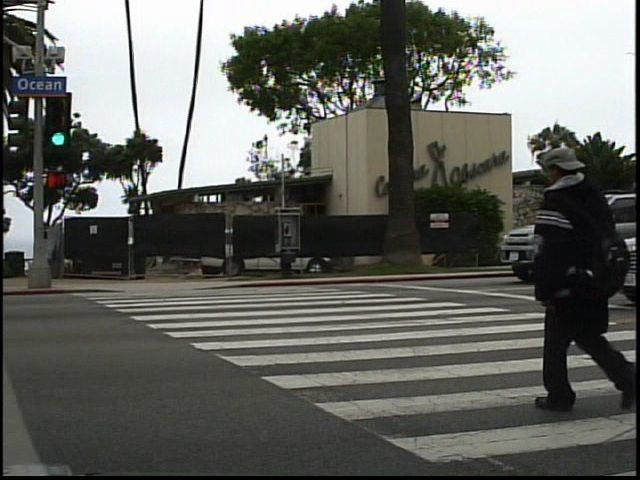person: (522, 135, 626, 415)
